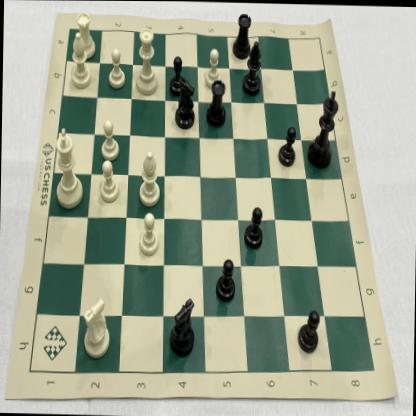black-bishop: (238, 37, 263, 98)
black-king: (306, 85, 340, 171)
black-knight: (167, 291, 199, 361), (173, 76, 198, 132)
black-pawn: (212, 254, 238, 306), (294, 306, 320, 356), (242, 203, 264, 253), (166, 53, 190, 98), (276, 123, 298, 168)
black-rook: (204, 77, 231, 128), (230, 12, 255, 62)
white-bishop: (136, 147, 162, 208), (66, 30, 92, 90)
white-king: (48, 124, 86, 211)
white-knight: (80, 293, 115, 362)
white-pawn: (135, 208, 162, 259), (94, 157, 120, 204), (104, 44, 129, 92), (201, 44, 224, 90), (97, 116, 120, 162)
white-queen: (131, 23, 160, 99)
white-rook: (71, 4, 99, 61)
